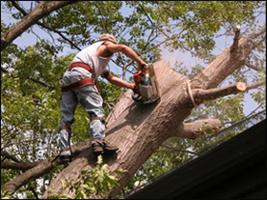person: (58, 35, 149, 156)
